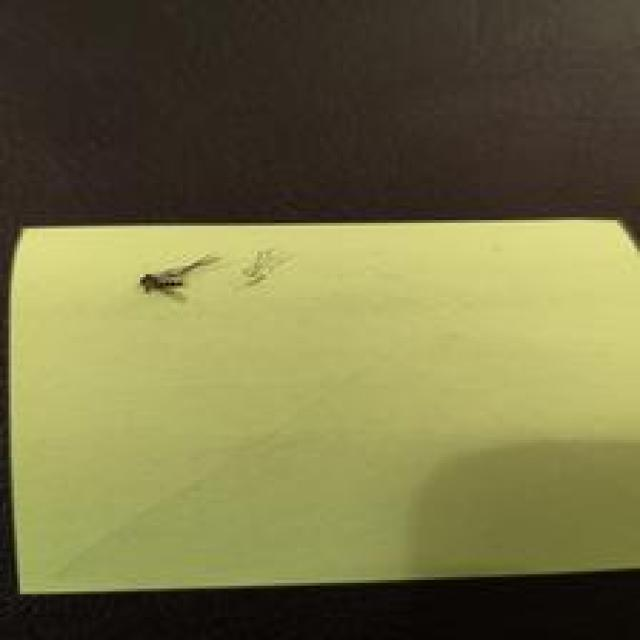Aedes albopictus: (137, 253, 220, 296)
